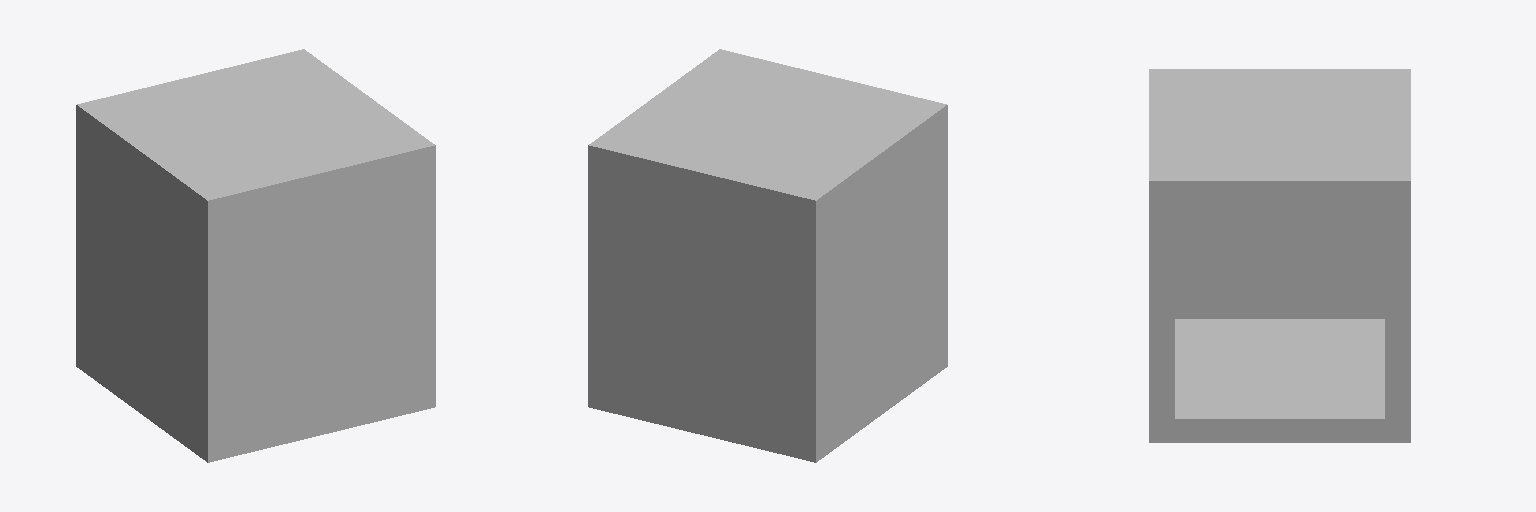
Rendered from wallSet_13.obj.
The picture shows the model from 3 angles: view 1: azimuth 30°, elevation 25°; view 2: azimuth 150°, elevation 25°; view 3: azimuth 270°, elevation 25°; orthographic projection.
Parts seen in each view (by area): view 1: wallSet_13_Cube.006; view 2: wallSet_13_Cube.006; view 3: wallSet_13_Cube.006.
Part boxes in pixels (x1,y1,x2,y2): wallSet_13_Cube.006: (76, 49, 435, 462); wallSet_13_Cube.006: (588, 49, 947, 462); wallSet_13_Cube.006: (1149, 69, 1410, 442).
Size of the model in its own units: 2 by 2.2 by 2.